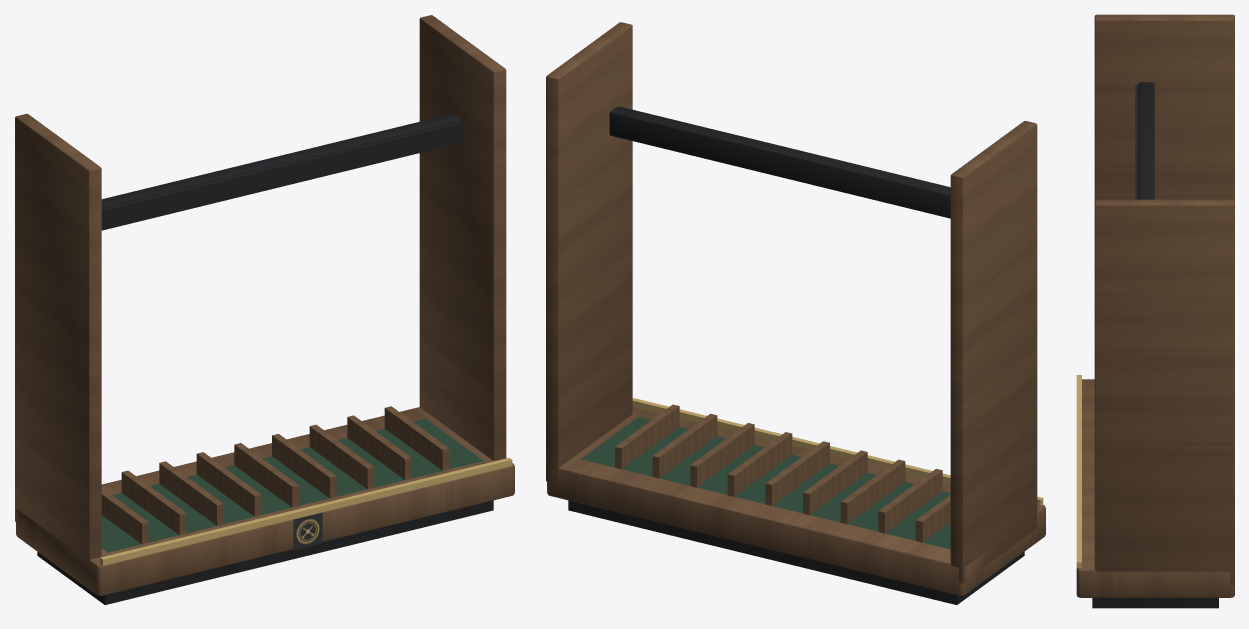
Rendered from putter_rack.glb.
The picture shows the model from 3 angles, left to right: view 1: azimuth 30°, elevation 25°; view 2: azimuth 150°, elevation 25°; view 3: azimuth 270°, elevation 25°; orthographic projection. The views are drawn at different scales.
Visible parts, largest first — view 1: Cheek_L, Cheek_R, Base, Base_Felt, Grip_Rail_Pad, Base_Kick, Brass_Trim, Grip_Rail, Groove_Divider_02, Groove_Divider_04, Groove_Divider_07, Groove_Divider_09 (+6 smaller); view 2: Cheek_L, Cheek_R, Base, Grip_Rail, Base_Felt, Base_Kick, Brass_Trim, Groove_Divider_08, Groove_Divider_03, Groove_Divider_06, Groove_Divider_04, Groove_Divider_05 (+4 smaller); view 3: Cheek_R, Cheek_L, Base, Grip_Rail, Base_Kick, Brass_Trim, Grip_Rail_Pad.
Part boxes in pixels (bbox=[...]): Cheek_L: bbox=[15, 113, 101, 560]; Cheek_R: bbox=[419, 15, 506, 460]; Base: bbox=[16, 407, 514, 595]; Base_Felt: bbox=[101, 418, 482, 552]; Grip_Rail_Pad: bbox=[101, 121, 462, 230]; Base_Kick: bbox=[37, 500, 493, 604]; Brass_Trim: bbox=[100, 457, 512, 565]; Grip_Rail: bbox=[101, 113, 461, 208]; Groove_Divider_02: bbox=[121, 470, 186, 535]; Groove_Divider_04: bbox=[196, 452, 261, 516]; Groove_Divider_07: bbox=[309, 424, 374, 489]; Groove_Divider_09: bbox=[384, 406, 449, 470]; Cheek_L: bbox=[950, 121, 1037, 583]; Cheek_R: bbox=[546, 22, 632, 483]; Base: bbox=[547, 407, 1045, 595]; Grip_Rail: bbox=[609, 106, 950, 218]; Base_Felt: bbox=[581, 417, 950, 549]; Base_Kick: bbox=[568, 500, 1024, 604]; Brass_Trim: bbox=[632, 398, 1043, 505]; Groove_Divider_08: bbox=[652, 413, 717, 478]; Groove_Divider_03: bbox=[840, 459, 905, 524]; Groove_Divider_06: bbox=[727, 432, 792, 496]; Groove_Divider_04: bbox=[803, 450, 867, 515]; Groove_Divider_05: bbox=[765, 441, 829, 505]; Cheek_R: bbox=[1094, 199, 1234, 585]; Cheek_L: bbox=[1094, 14, 1234, 200]; Base: bbox=[1076, 379, 1234, 597]; Grip_Rail: bbox=[1138, 82, 1154, 199]; Base_Kick: bbox=[1092, 598, 1218, 608]; Brass_Trim: bbox=[1076, 375, 1081, 567]; Grip_Rail_Pad: bbox=[1135, 85, 1138, 199].
Bounding box in the file's own units: 1 × 1 × 0.3512.
Materials: 8 (4 with a texture image).
